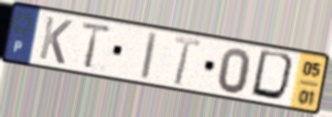0: (214, 45, 253, 96)
D: (248, 47, 299, 104)
I: (139, 30, 160, 82)
K: (36, 14, 74, 67)
T: (78, 20, 115, 70), (172, 33, 203, 87)
